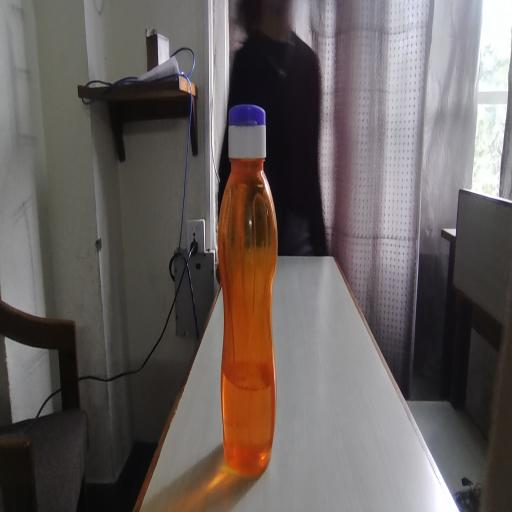Bottle: (216, 100, 306, 474)
